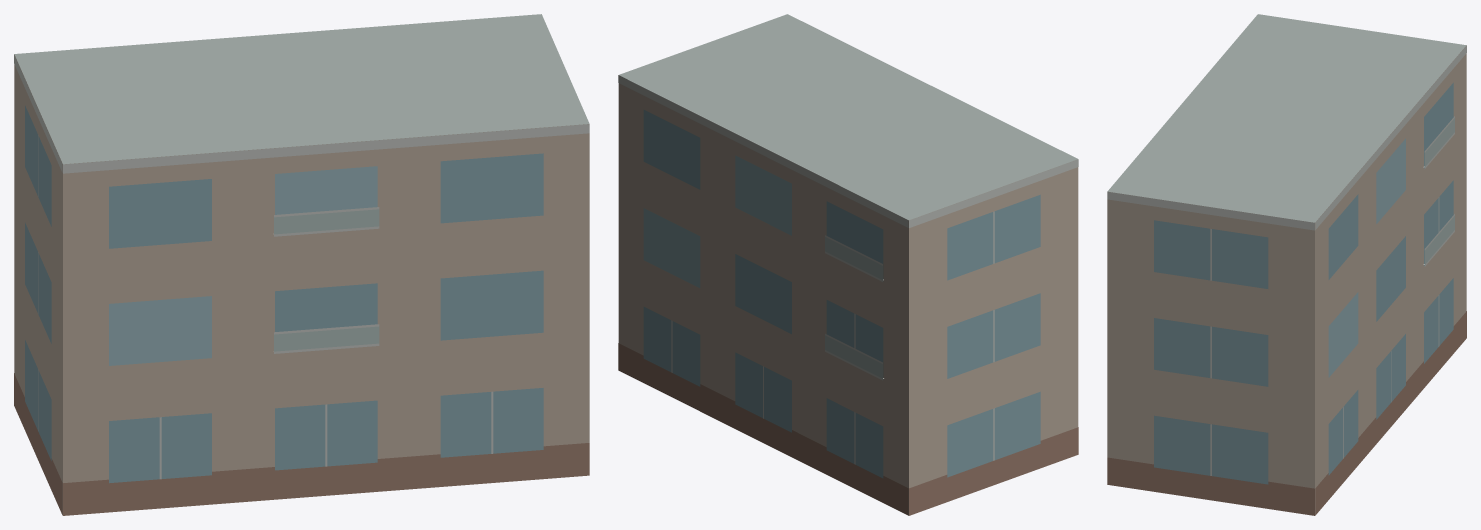
Rendered from survey-upis-32544069.glb.
The picture shows the model from 3 angles, left to right: view 1: azimuth 30°, elevation 25°; view 2: azimuth 150°, elevation 25°; view 3: azimuth 270°, elevation 25°; orthographic projection. The views are drawn at different scales.
Visible parts, largest first — view 1: survey-upis-32544069.tmp; view 2: survey-upis-32544069.tmp; view 3: survey-upis-32544069.tmp.
Boxes of the visible parts, bbox=[...] form: survey-upis-32544069.tmp: bbox=[14, 14, 589, 515]; survey-upis-32544069.tmp: bbox=[618, 14, 1078, 515]; survey-upis-32544069.tmp: bbox=[1107, 14, 1466, 515].
Bounding box in the file's own units: 13.99 × 9.15 × 10.18.
